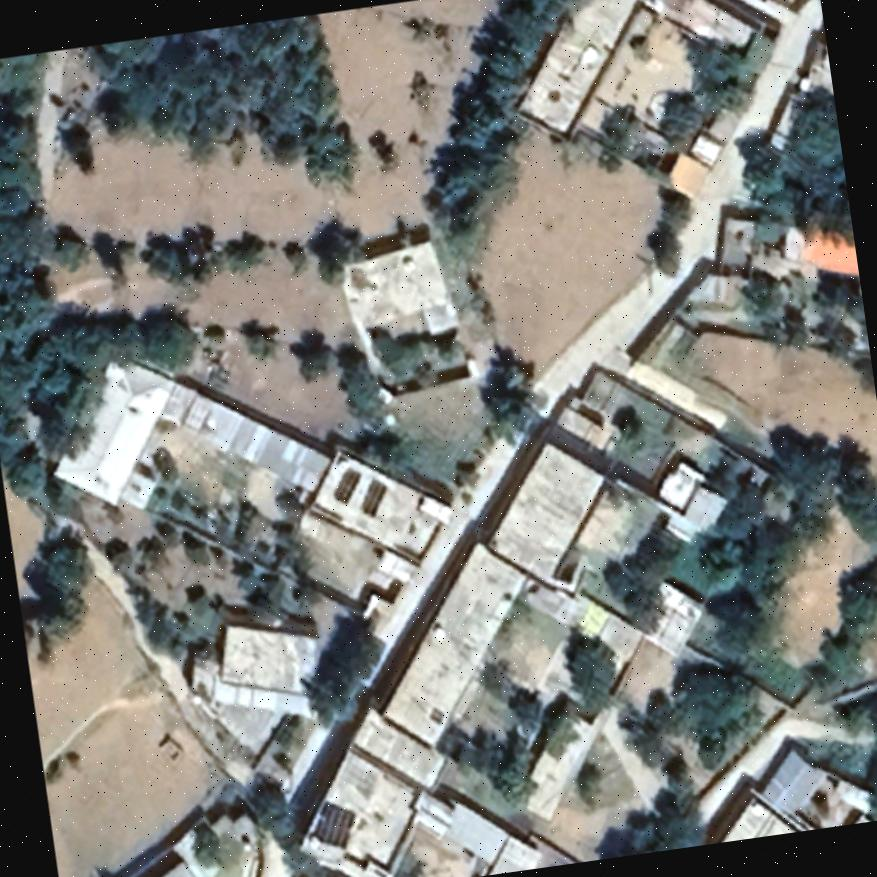Solarpanel: (307, 794, 359, 850), (354, 475, 386, 519), (329, 463, 359, 508)
